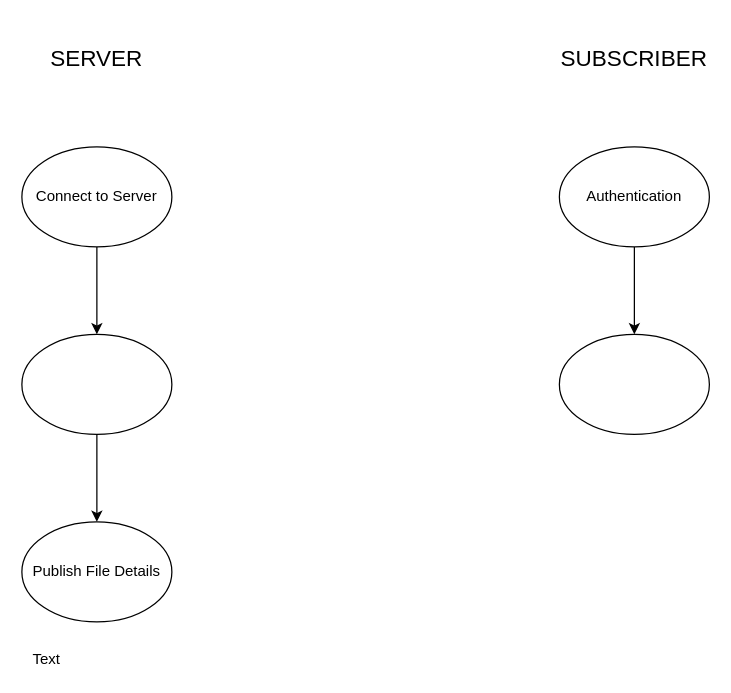
Image size: 731x693. Some labels were removed from this diagram. Here are the shapes that lost their labels. From the top down, the centre of each, then its label:
At pixel 96 383: "Generate Key".
At pixel 633 383: "Send File".
